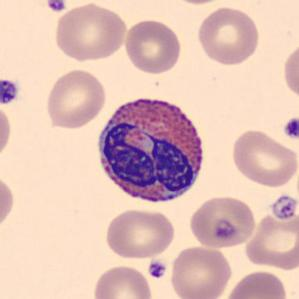Eosinophil: (91, 88, 211, 212)
Platelets: (270, 192, 298, 221), (0, 77, 21, 106), (147, 259, 168, 280), (282, 116, 298, 141), (45, 0, 67, 13)
RBC: (51, 1, 129, 63), (194, 4, 262, 67), (229, 128, 298, 188), (43, 67, 108, 130), (103, 206, 177, 260), (187, 193, 257, 250), (122, 17, 184, 75), (168, 244, 233, 299), (243, 209, 298, 271), (90, 262, 154, 299), (223, 268, 290, 299), (281, 39, 299, 102), (0, 170, 17, 236), (0, 100, 14, 163), (164, 0, 230, 6)
